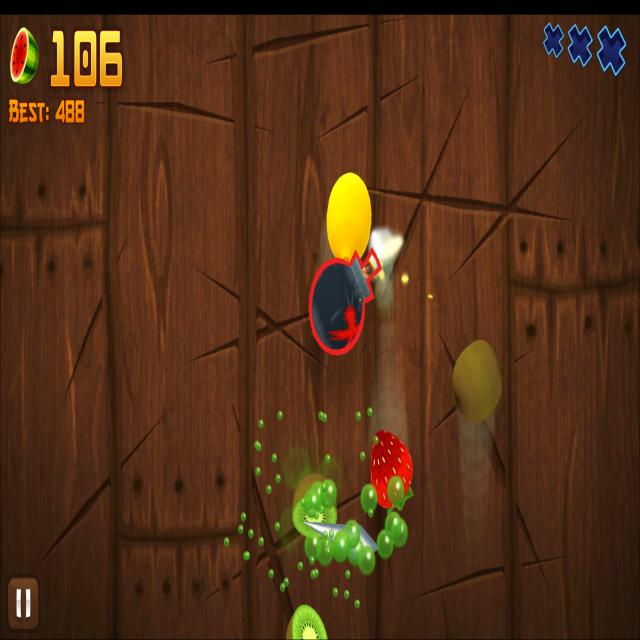bomb: (308, 245, 384, 358)
fruit: (452, 338, 502, 426), (327, 172, 372, 261), (370, 428, 414, 512)
